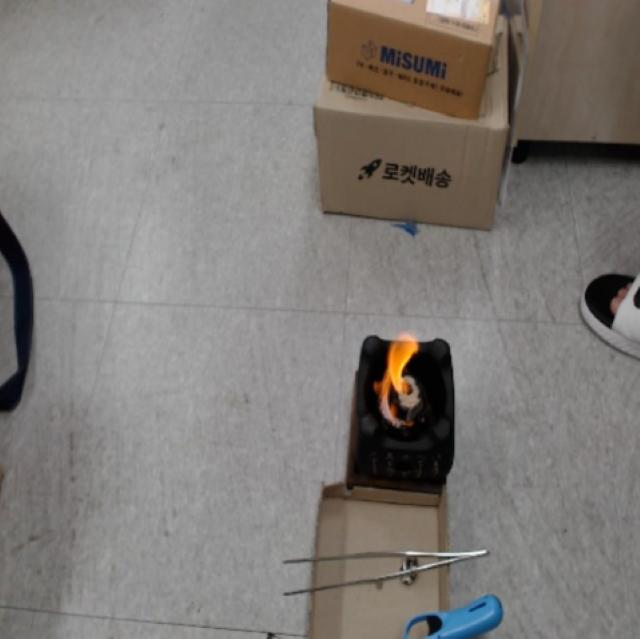Fire: (368, 332, 431, 414)
